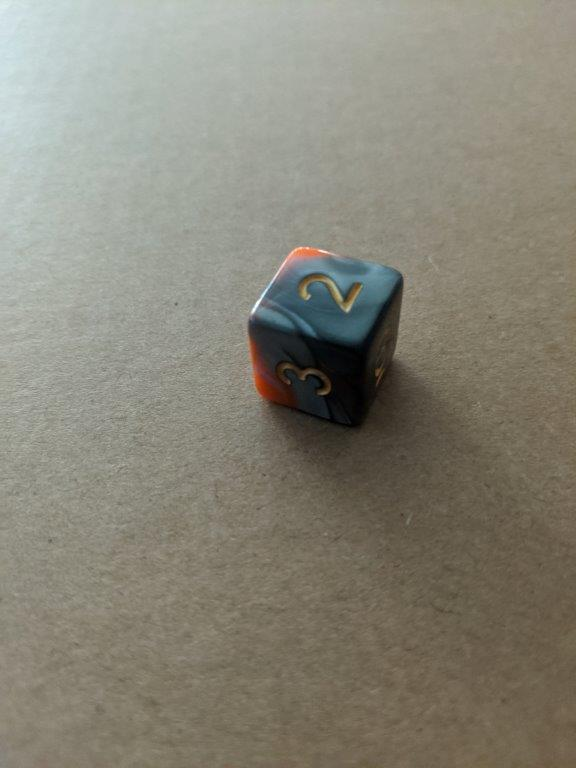d6-2: (248, 244, 407, 431)
